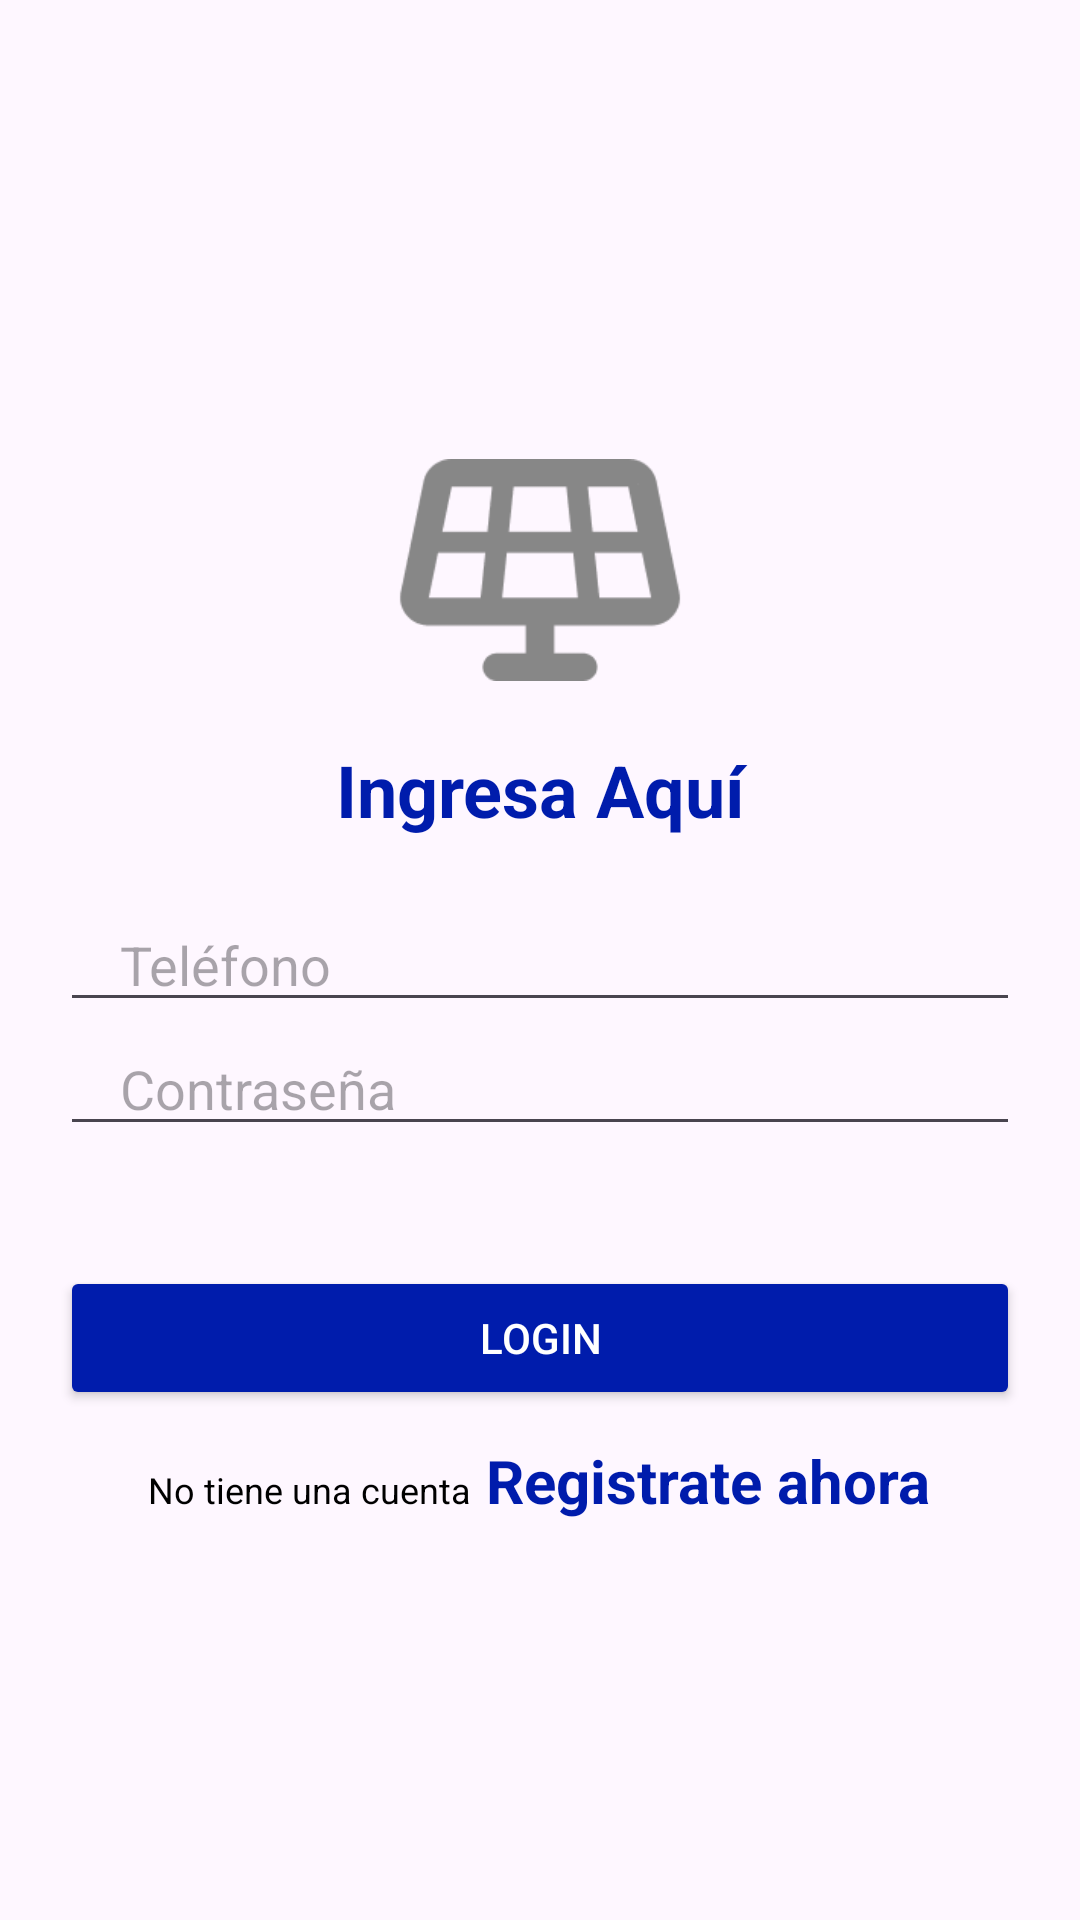

Named icons in this screenshot (1080*1920) and their centers, (x=x, y=y):
pane: (x=540, y=570)
